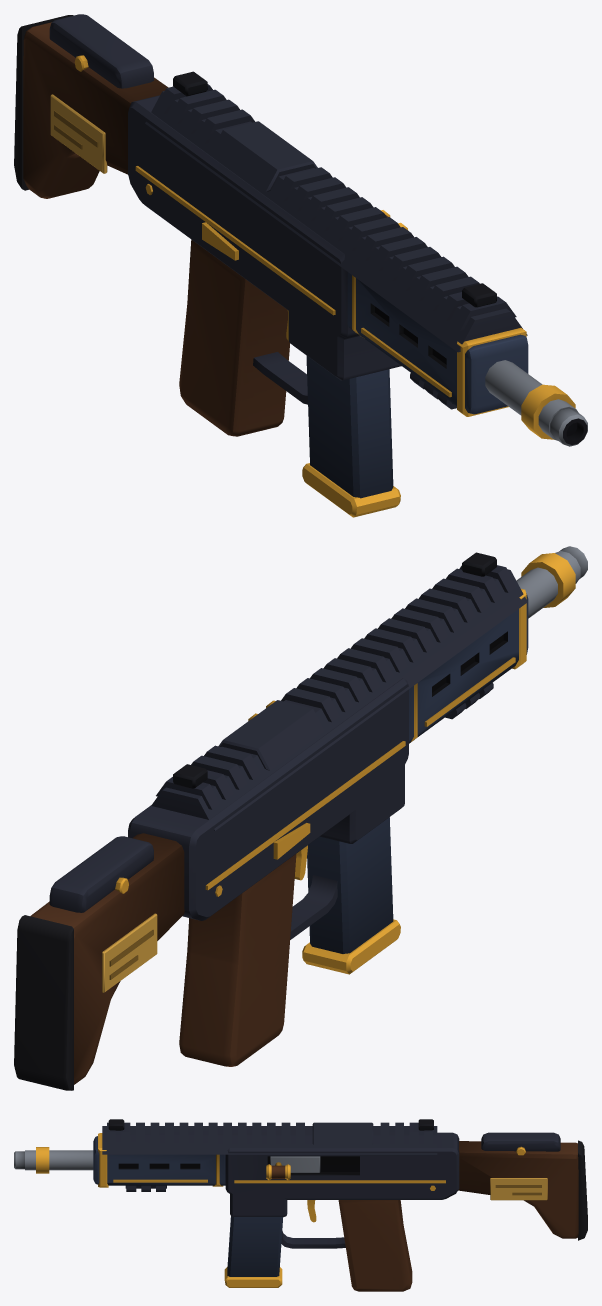
The model's file is board_meeting.glb.
3 renders of one model, top to bottom at view 1: azimuth 30°, elevation 25°; view 2: azimuth 150°, elevation 25°; view 3: azimuth 270°, elevation 25°, orthographic. The views are drawn at different scales.
Parts seen in each view (by area): view 1: frame, mag; view 2: frame, mag; view 3: frame, mag, bolt.
Part boxes in pixels (box(x1,y1,x2,y2)): frame: box(14, 14, 587, 446); mag: box(302, 355, 400, 517); frame: box(14, 546, 587, 1090); mag: box(302, 817, 400, 974); frame: box(14, 1119, 587, 1291); mag: box(224, 1216, 283, 1287); bolt: box(266, 1156, 320, 1179).
Size of the model in its own units: 0.3052 by 0.823 by 2.6.
Materials: 1 (1 with a texture image).
